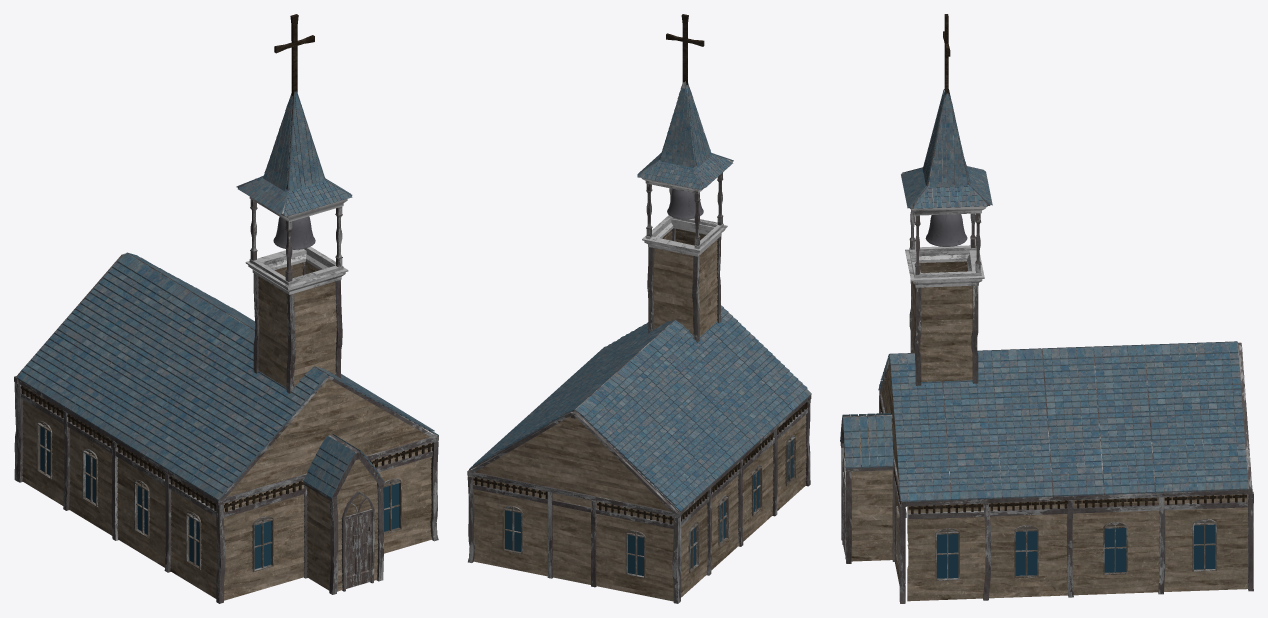
The model's file is Iglesia.fbx.
3 renders of one model, left to right at view 1: azimuth 30°, elevation 25°; view 2: azimuth 150°, elevation 25°; view 3: azimuth 270°, elevation 25°, orthographic. The views are drawn at different scales.
Visible parts, largest first — view 1: pCube1658; view 2: pCube1658; view 3: pCube1658.
Part boxes in pixels (left/top/right/bottom): pCube1658: left=14, top=14, right=438, bottom=603; pCube1658: left=467, top=14, right=811, bottom=603; pCube1658: left=840, top=14, right=1253, bottom=603.
Bounding box in the file's own units: 1324 × 2628 × 1859.
